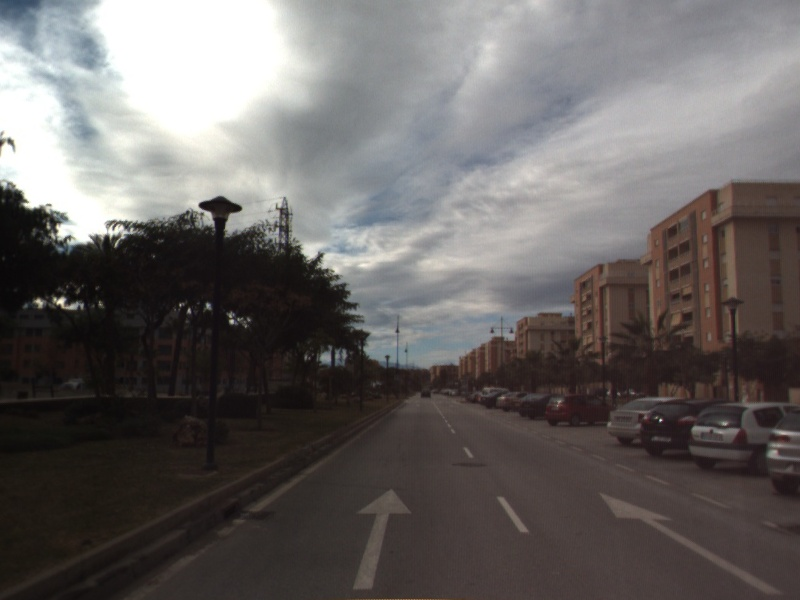STRAIGHT: (598, 491, 784, 596), (350, 486, 414, 591)
